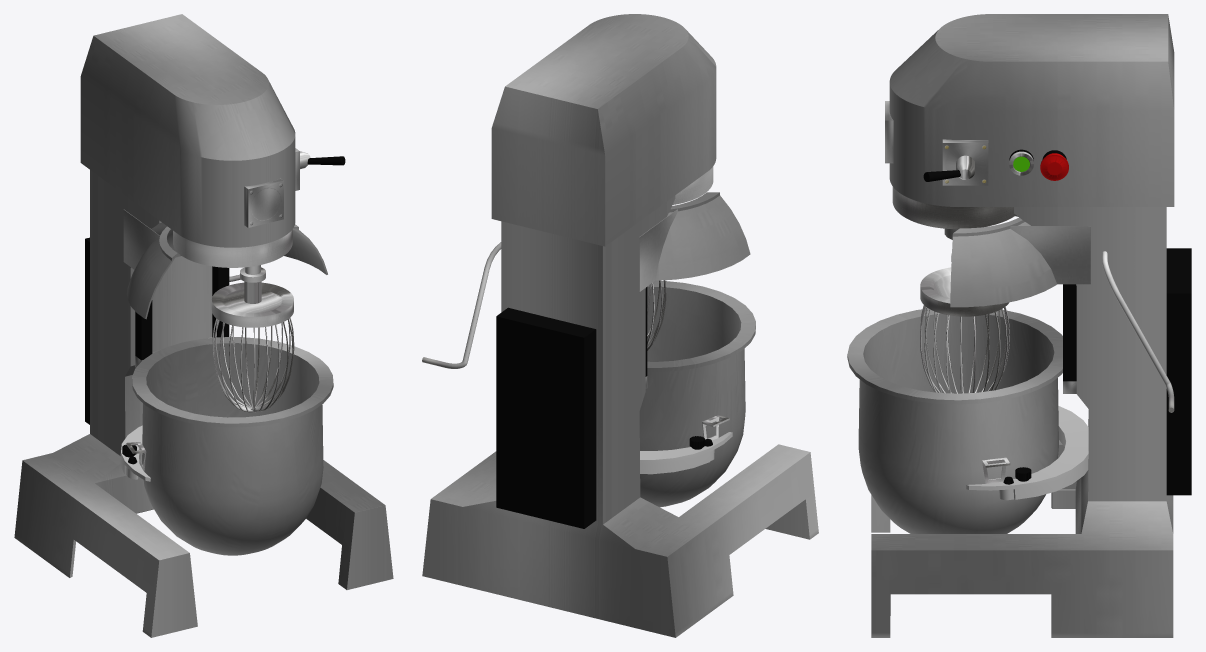
The model's file is Mixer.glb.
3 renders of one model, left to right at view 1: azimuth 30°, elevation 25°; view 2: azimuth 150°, elevation 25°; view 3: azimuth 270°, elevation 25°, orthographic. The views are drawn at different scales.
Parts seen in each view (by area): view 1: Box001, Sphere001, Cylinder005, Sphere002, Cylinder002, Box002, Box005, group1, Box004; view 2: Box001, Box004, Sphere001, Sphere002, group1, Line001, Cylinder002, Cylinder005; view 3: Box001, Sphere001, Sphere002, Box004, Cylinder005, group1, Cylinder002, Box003, Box005, Line001, Cylinder011, side_knob (+1 smaller).
Part boxes in pixels (left/top/right/bottom): Box001: left=14, top=14, right=393, bottom=637; Sphere001: left=132, top=337, right=333, bottom=555; Cylinder005: left=211, top=265, right=294, bottom=412; Sphere002: left=123, top=209, right=327, bottom=319; Cylinder002: left=173, top=229, right=292, bottom=267; Box002: left=244, top=178, right=283, bottom=227; Box005: left=135, top=266, right=229, bottom=367; group1: left=120, top=425, right=150, bottom=481; Box004: left=85, top=237, right=89, bottom=424; Box001: left=422, top=14, right=818, bottom=637; Box004: left=496, top=307, right=596, bottom=528; Sphere001: left=639, top=280, right=755, bottom=507; Sphere002: left=639, top=192, right=750, bottom=291; group1: left=640, top=415, right=732, bottom=474; Line001: left=422, top=242, right=501, bottom=368; Cylinder002: left=672, top=166, right=713, bottom=204; Cylinder005: left=647, top=280, right=666, bottom=350; Box001: left=871, top=14, right=1174, bottom=637; Sphere001: left=847, top=308, right=1062, bottom=533; Sphere002: left=950, top=215, right=1090, bottom=307; Box004: left=1166, top=248, right=1191, bottom=495; Cylinder005: left=920, top=253, right=1009, bottom=393; group1: left=966, top=406, right=1088, bottom=500; Cylinder002: left=892, top=187, right=1015, bottom=229; Box003: left=942, top=139, right=988, bottom=185; Box005: left=1063, top=284, right=1076, bottom=393; Line001: left=1102, top=251, right=1174, bottom=412; Cylinder011: left=1040, top=150, right=1068, bottom=180; side_knob: left=923, top=155, right=974, bottom=181.
Bounding box in the file's own units: 6.34 × 12.14 × 7.08.
11 materials, 5 textured.
